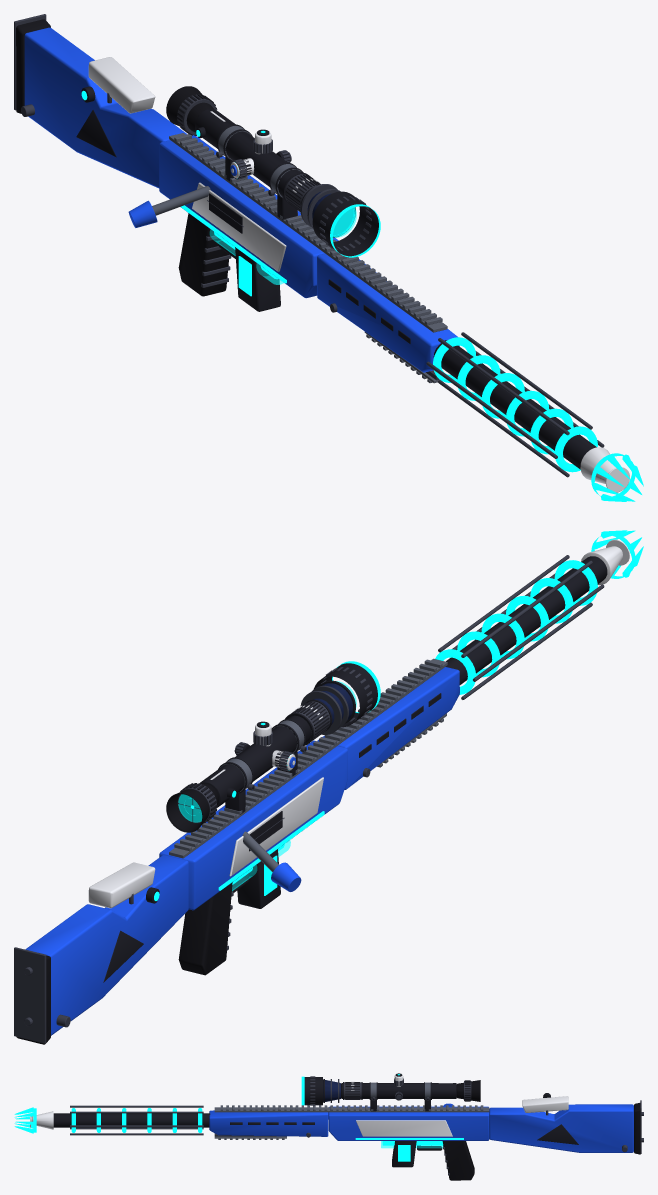
Rendered from OrbitalLauncher.fbx.
The picture shows the model from 3 angles, top to bottom: view 1: azimuth 30°, elevation 25°; view 2: azimuth 150°, elevation 25°; view 3: azimuth 270°, elevation 25°; orthographic projection. The views are drawn at different scales.
Visible parts, largest first — view 1: OrbitalLauncher_Sniper_de_Energia_Mesh, OrbitalLauncher_Detalle_Energia_Cuerpo, OrbitalLauncher_Detalle_Energia_Mira, OrbitalLauncher_Detalle_Energia_Culata; view 2: OrbitalLauncher_Sniper_de_Energia_Mesh, OrbitalLauncher_Detalle_Energia_Cuerpo, OrbitalLauncher_Detalle_Energia_Mira, OrbitalLauncher_Detalle_Energia_Culata; view 3: OrbitalLauncher_Sniper_de_Energia_Mesh, OrbitalLauncher_Detalle_Energia_Cuerpo, OrbitalLauncher_Detalle_Energia_Mira, OrbitalLauncher_Detalle_Energia_Culata.
Part boxes in pixels (x1=…): OrbitalLauncher_Sniper_de_Energia_Mesh: x1=16, y1=19, x2=615, y2=483; OrbitalLauncher_Detalle_Energia_Cuerpo: x1=128, y1=133, x2=643, y2=501; OrbitalLauncher_Detalle_Energia_Mira: x1=166, y1=86, x2=380, y2=257; OrbitalLauncher_Detalle_Energia_Culata: x1=14, y1=14, x2=111, y2=116; OrbitalLauncher_Sniper_de_Energia_Mesh: x1=16, y1=546, x2=622, y2=1044; OrbitalLauncher_Detalle_Energia_Cuerpo: x1=169, y1=530, x2=643, y2=891; OrbitalLauncher_Detalle_Energia_Mira: x1=166, y1=661, x2=380, y2=832; OrbitalLauncher_Detalle_Energia_Culata: x1=14, y1=887, x2=159, y2=1043; OrbitalLauncher_Sniper_de_Energia_Mesh: x1=31, y1=1075, x2=640, y2=1180; OrbitalLauncher_Detalle_Energia_Cuerpo: x1=14, y1=1103, x2=489, y2=1139; OrbitalLauncher_Detalle_Energia_Mira: x1=301, y1=1073, x2=480, y2=1105; OrbitalLauncher_Detalle_Energia_Culata: x1=543, y1=1093, x2=643, y2=1153.
Size of the model in its own units: 13.82 by 23.81 by 132.
